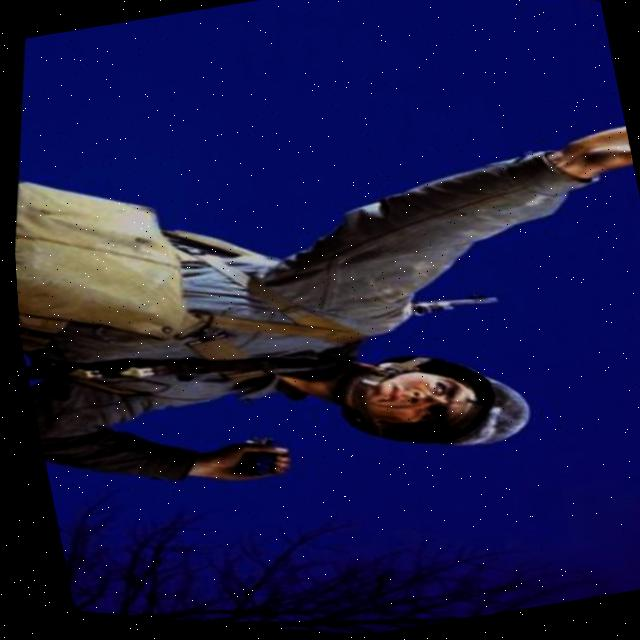grenade: (216, 423, 290, 488)
